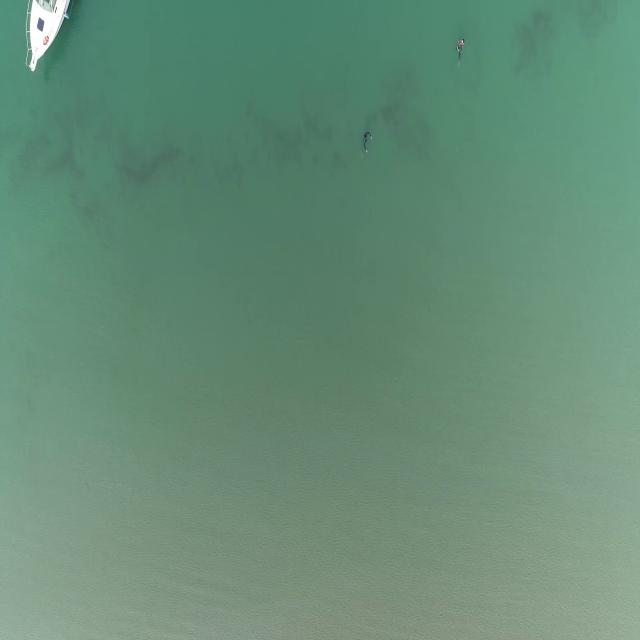boat: (23, 0, 73, 76)
person: (456, 36, 467, 65), (361, 131, 374, 154)
